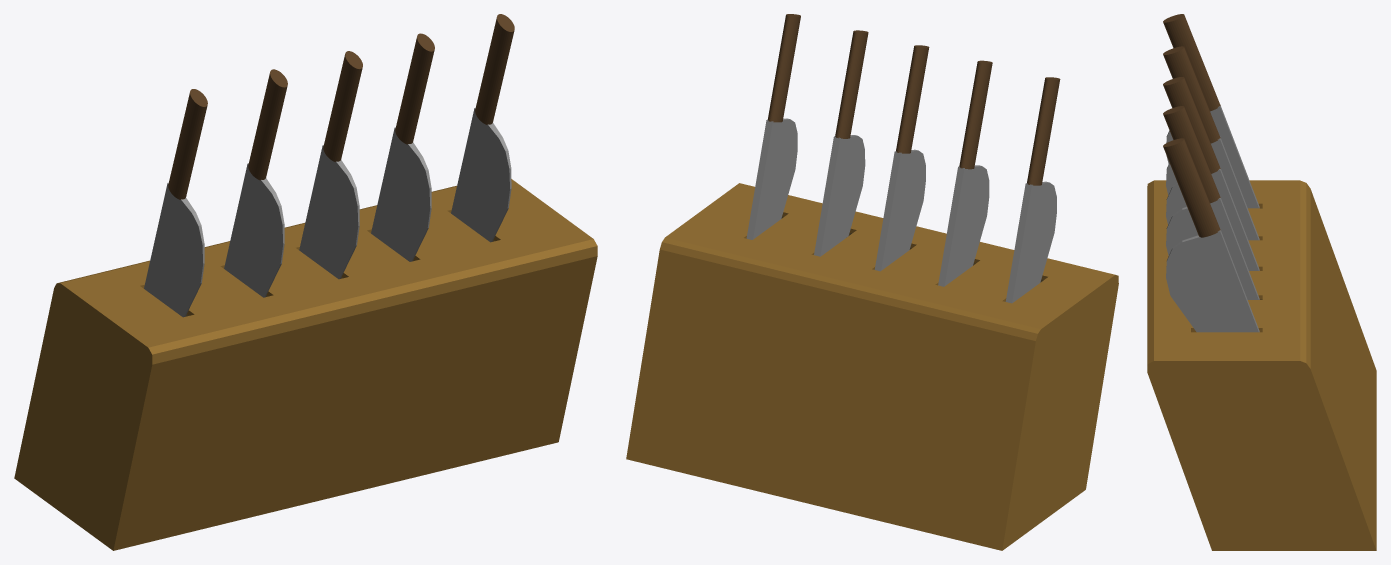
The model's file is mesblok c.fbx.
The picture shows the model from 3 angles, left to right: view 1: azimuth 30°, elevation 25°; view 2: azimuth 150°, elevation 25°; view 3: azimuth 270°, elevation 25°; orthographic projection. The views are drawn at different scales.
Parts seen in each view (by area): view 1: Cube, Cube.004, Cube.001, Cube.005, Cube.002, Cube.003; view 2: Cube, Cube.004, Cube.001, Cube.002, Cube.005, Cube.003; view 3: Cube, Cube.005, Cube.004, Cube.003, Cube.001, Cube.002.
Boxes of the visible parts, <box> form: Cube: <box>14,179,597,550</box>; Cube.004: <box>371,33,434,261</box>; Cube.001: <box>144,89,207,317</box>; Cube.005: <box>451,14,514,242</box>; Cube.002: <box>224,69,287,297</box>; Cube.003: <box>299,51,362,279</box>; Cube: <box>626,183,1118,550</box>; Cube.004: <box>814,30,868,256</box>; Cube.001: <box>1005,77,1060,303</box>; Cube.002: <box>938,60,992,286</box>; Cube.005: <box>746,14,800,239</box>; Cube.003: <box>874,45,929,271</box>; Cube: <box>1147,180,1376,550</box>; Cube.005: <box>1163,138,1259,332</box>; Cube.004: <box>1163,106,1259,299</box>; Cube.003: <box>1163,77,1259,270</box>; Cube.001: <box>1163,14,1259,208</box>; Cube.002: <box>1163,46,1259,240</box>.
Bounding box in the file's own units: 20 × 19.69 × 10.74.
